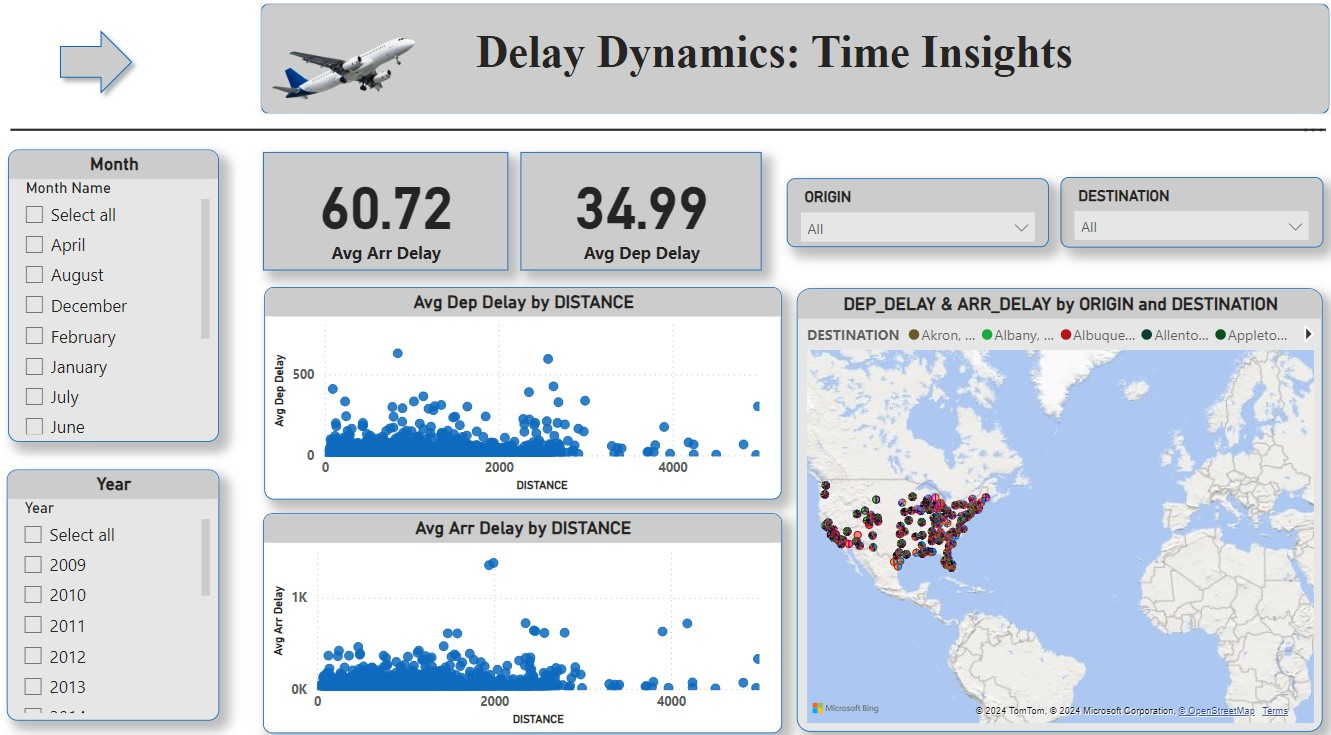

The page's visual inventory and layout, read from the dashboard file:
{"tool":"powerbi","page":{"name":"Delays and Time Analysis","canvas":[1280,720],"ordinal":1},"visuals":[{"type":"shape","box":[249.7,11,1018.2,105.7],"z":0},{"type":"textbox","box":[450.1,27.4,757.5,89.2],"z":1000},{"type":"shape","box":[12.3,124.9,1252.8,12.3],"z":2000},{"type":"shape","box":[32.6,10.9,119.4,113.4],"z":3000},{"type":"card","title":"Avg Arr Delay","fields":{"Values":["flights_data.Avg Arr Delay"]},"box":[252.4,152.4,233.3,113.1],"z":4000},{"type":"card","fields":{"Values":["flights_data.Avg Dep Delay"]},"box":[497.6,152.4,229.8,113.1],"z":5000},{"type":"slicer","fields":{"Values":["flights_data.DESTINATION"]},"box":[1012.1,176.2,250,67.2],"z":6000},{"type":"slicer","title":"Month","fields":{"Values":["flights_data.Month Name"]},"box":[9.5,150,201.2,278.6],"z":7000},{"type":"slicer","title":"Year","fields":{"Values":["flights_data.Year"]},"box":[8.3,454.8,202.4,239.3],"z":8000},{"type":"scatterChart","fields":{"X":["flights_data.DISTANCE"],"Y":["flights_data.Avg Dep Delay"]},"box":[253.6,281,492.9,202.4],"z":9000},{"type":"scatterChart","fields":{"X":["flights_data.DISTANCE"],"Y":["flights_data.Avg Arr Delay"]},"box":[252.4,496.4,494.1,209.5],"z":10000},{"type":"map","title":"DEP_DELAY & ARR_DELAY by ORIGIN and DESTINATION","fields":{"Category":["flights_data.ORIGIN"],"Series":["flights_data.DESTINATION"]},"box":[760.7,282.1,501.2,422.6],"z":11000},{"type":"shape","box":[49.5,27.7,86.9,78.4],"z":12000},{"type":"slicer","fields":{"Values":["flights_data.ORIGIN"]},"box":[751.4,177.6,249.7,65.9],"z":13000},{"type":"image","box":[249.7,0,163.3,152.3],"z":14000}]}

Visuals, with their boxes in screenshot pixels (x1, y1, x2, y2), scaled from the page's 1280x720 canvas onto the 1331x735 screenshot:
shape: 260,11,1318,119
textbox: 468,28,1256,119
shape: 13,128,1316,140
shape: 34,11,158,127
"Avg Arr Delay" card: 262,156,505,271
card - flights_data.Avg Dep Delay: 517,156,756,271
slicer - flights_data.DESTINATION: 1052,180,1312,248
"Month" slicer: 10,153,219,438
"Year" slicer: 9,464,219,709
scatterChart - flights_data.DISTANCE x flights_data.Avg Dep Delay: 264,287,776,493
scatterChart - flights_data.DISTANCE x flights_data.Avg Arr Delay: 262,507,776,721
"DEP_DELAY & ARR_DELAY by ORIGIN and DESTINATION" map: 791,288,1312,719
shape: 51,28,142,108
slicer - flights_data.ORIGIN: 781,181,1041,249
image: 260,0,429,155
